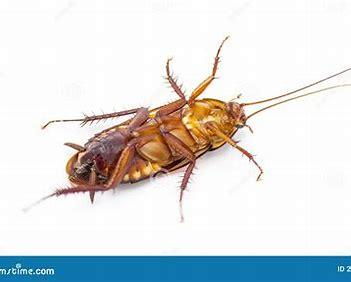cockroach: (15, 36, 351, 214)
